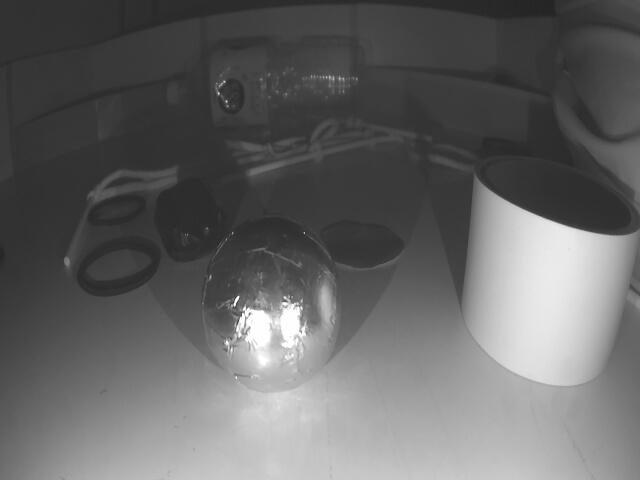Dead: (158, 184, 222, 259)
Live: (202, 216, 343, 396)
Point: (365, 60, 558, 150), (16, 73, 184, 174)
